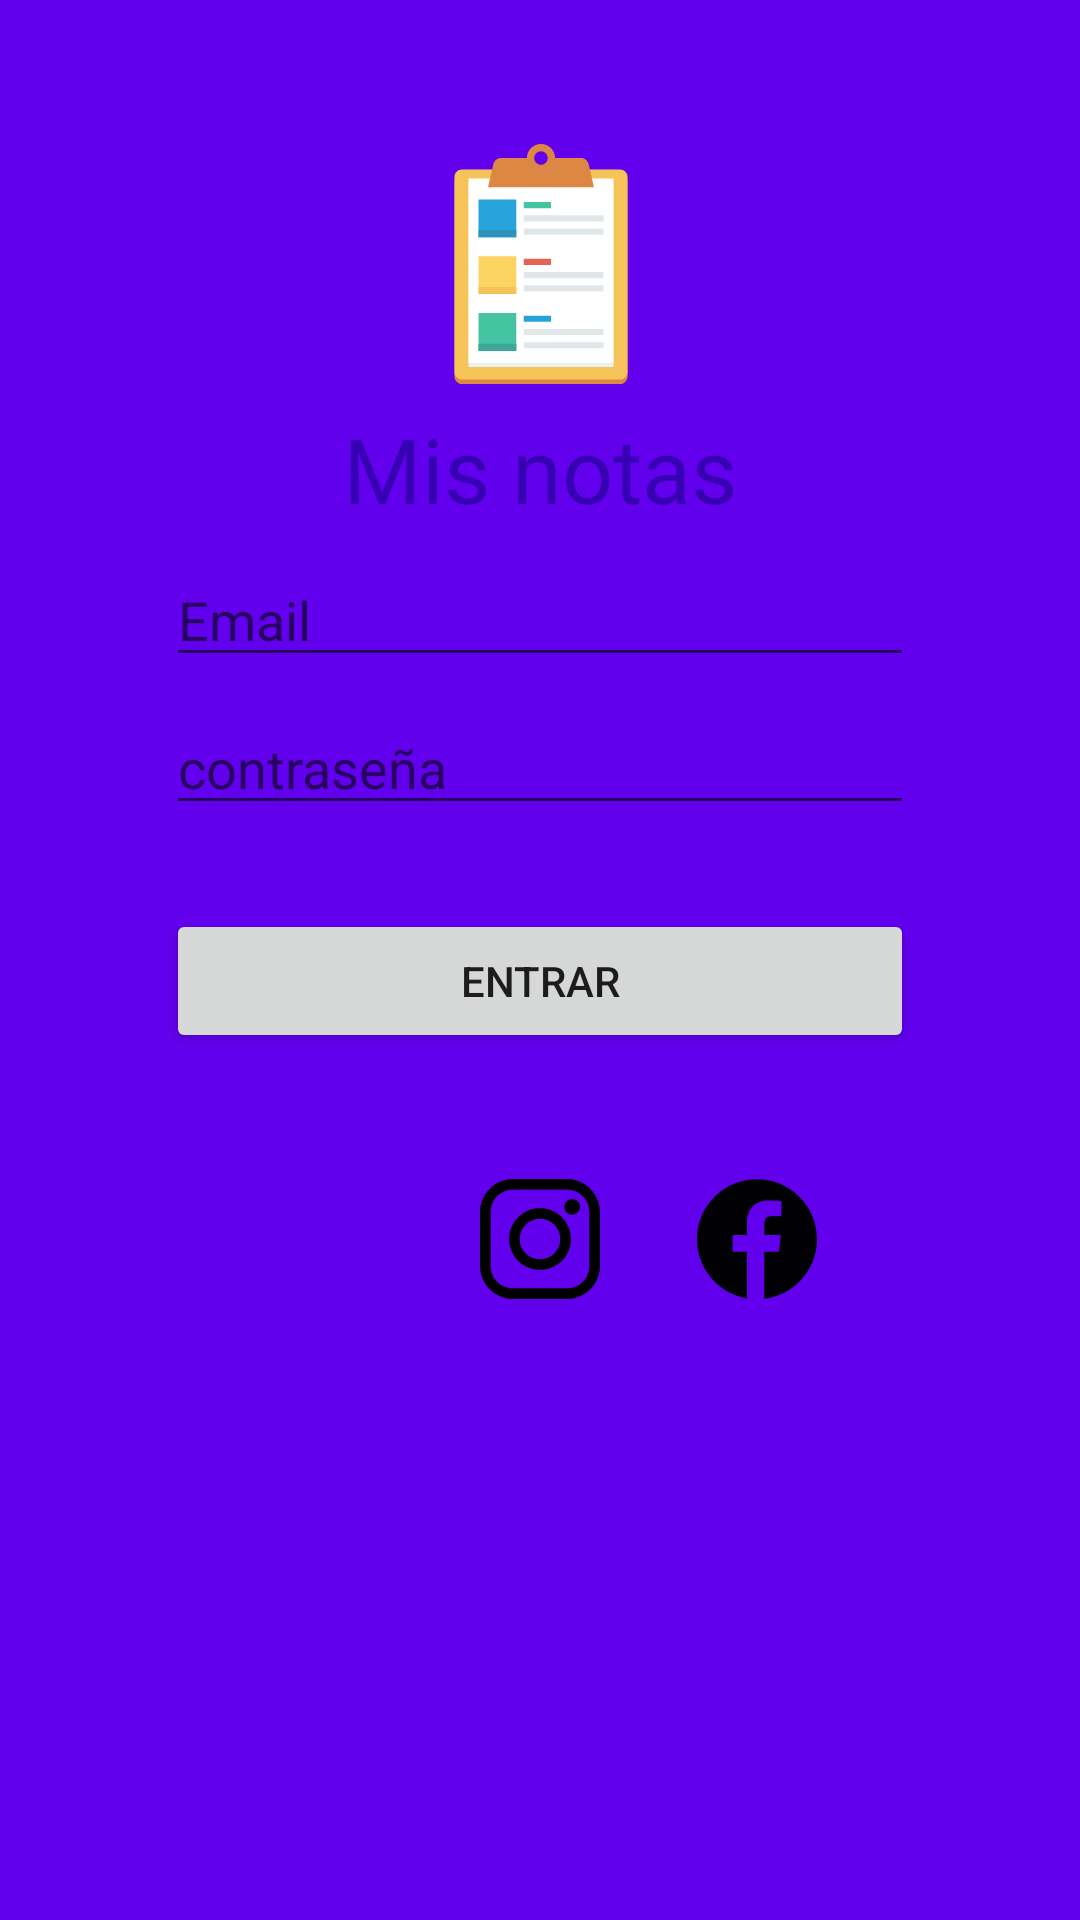

Named icons in this screenshot (1080 × 1920) and their bounding boxes, bbox=[x1, y1, x2, y2]:
checklist: bbox=[454, 144, 628, 384]
